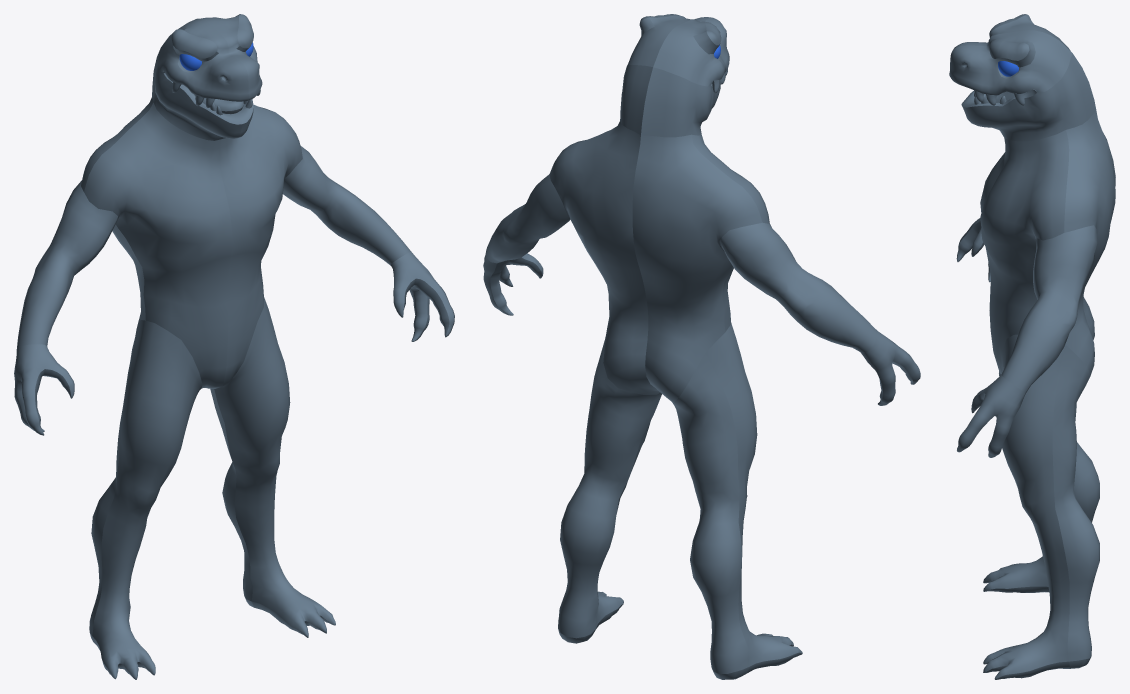
File: Main character_1 (1).FBX
3 renders of one model, left to right at view 1: azimuth 30°, elevation 25°; view 2: azimuth 150°, elevation 25°; view 3: azimuth 270°, elevation 25°, orthographic. The views are drawn at different scales.
Parts seen in each view (by area): view 1: Low_Rex_Body001; view 2: Low_Rex_Body001; view 3: Low_Rex_Body001.
Part boxes in pixels (x1,y1,x2,y2): Low_Rex_Body001: (14,14,454,679); Low_Rex_Body001: (483,14,920,679); Low_Rex_Body001: (949,14,1115,679).
Size of the model in its own units: 132 by 183 by 46.06.
